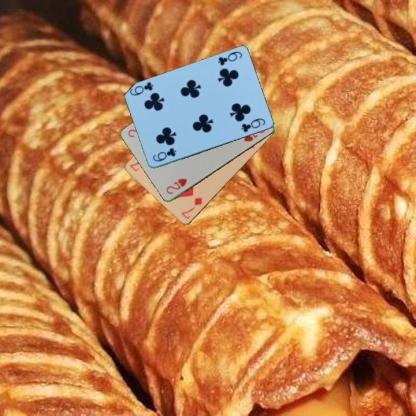2h: (164, 176, 188, 196)
6c: (150, 145, 178, 163), (215, 49, 243, 67)
7d: (179, 194, 203, 220)
